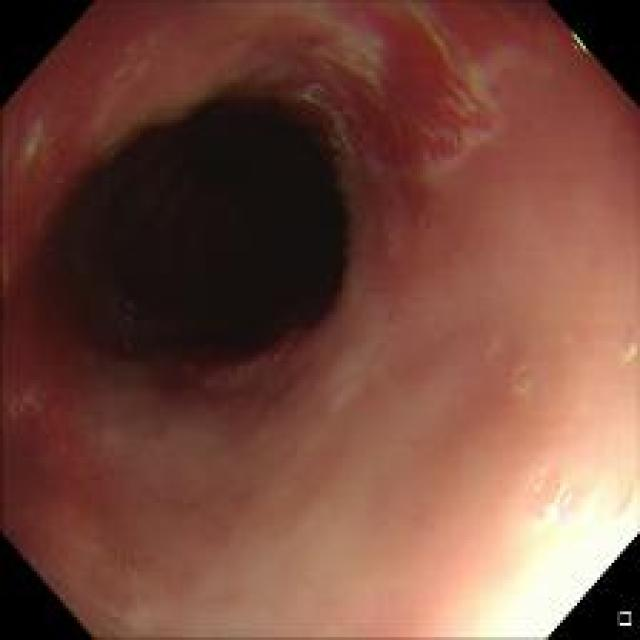blur: (268, 44, 506, 179)
bubbles: (519, 461, 605, 529), (508, 354, 535, 401)
color misalignment: (108, 75, 239, 161), (290, 75, 374, 178), (565, 30, 595, 61)
contrast: (18, 70, 366, 386)
saturation: (478, 495, 632, 632)
